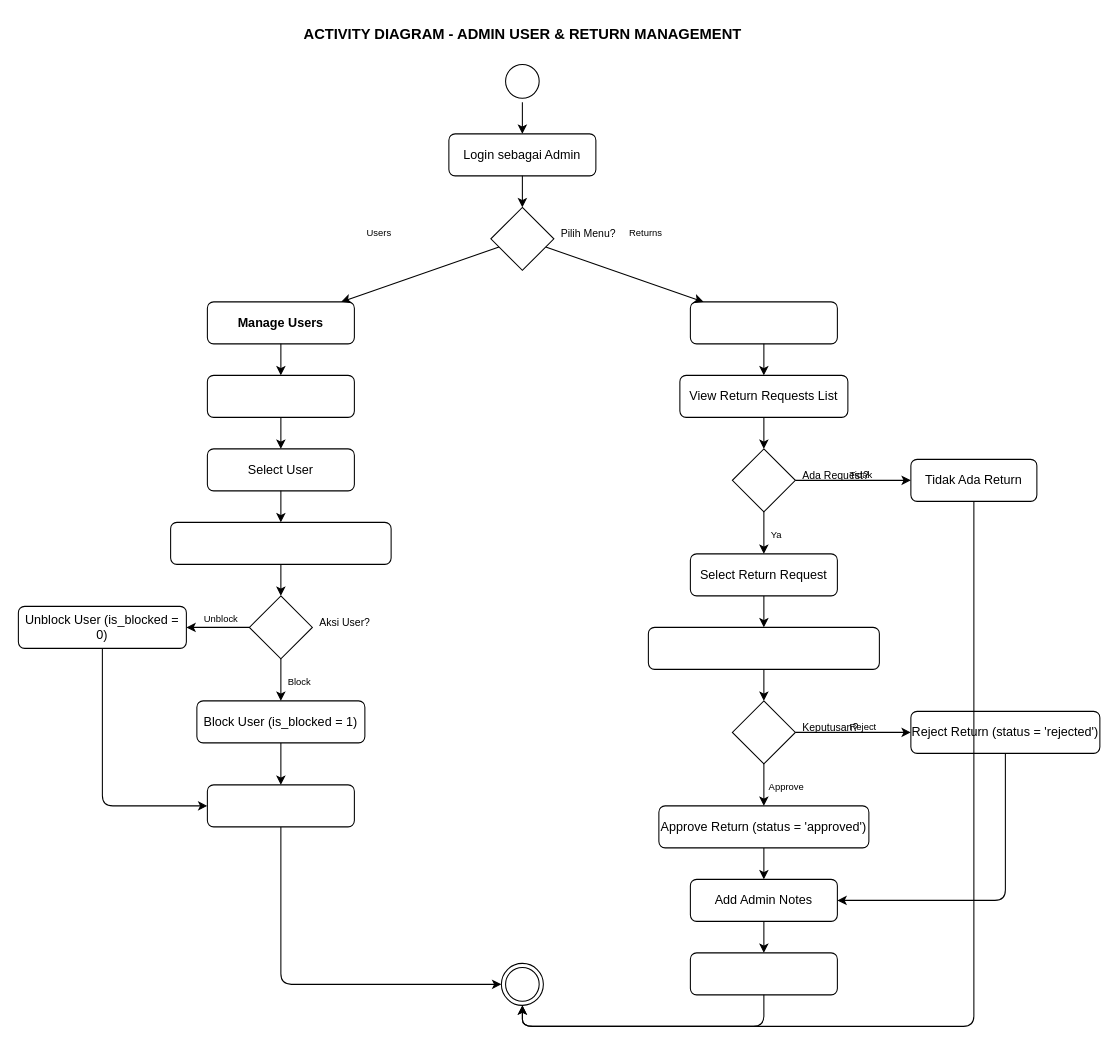
The diagram is 1118 pixels wide and 1053 high, and some of its shapes have lost their labels. Each missing label, with the centre of its shape:
"Manage Returns" goes at (x=763, y=322).
"Update Database" goes at (x=280, y=805).
"Update Return Status" goes at (x=763, y=973).
"View Details (Reason, Description, Photos/Videos)" goes at (x=763, y=647).
"View User Details (Orders, Reviews, Addresses)" goes at (x=280, y=542).
"View User List" goes at (x=280, y=395).
